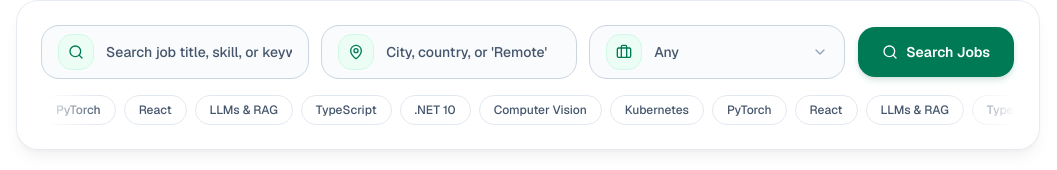
Test: JobSearchBar Component › allows typing a keyword, shows clear button, and clears keyword when clear button is clicked
Type "Machine Learning" into the field labelled "job title, skill, or keyword" at (199,52), box [106,42,292,62]
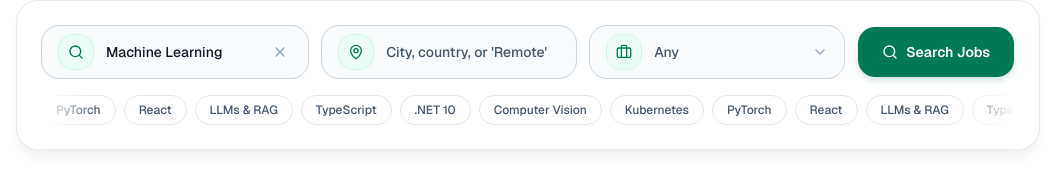
Expected: the button named "Clear keyword search" is shown
Click the button named "Clear keyword search" at (280,52), box [268,40,292,64]
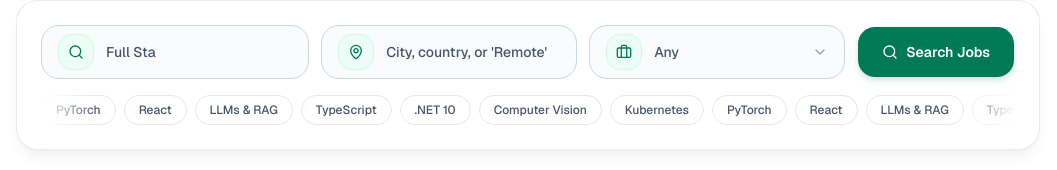
Expected: the field named "Job title, skill, or keyword" is empty, [106,42,292,62]
